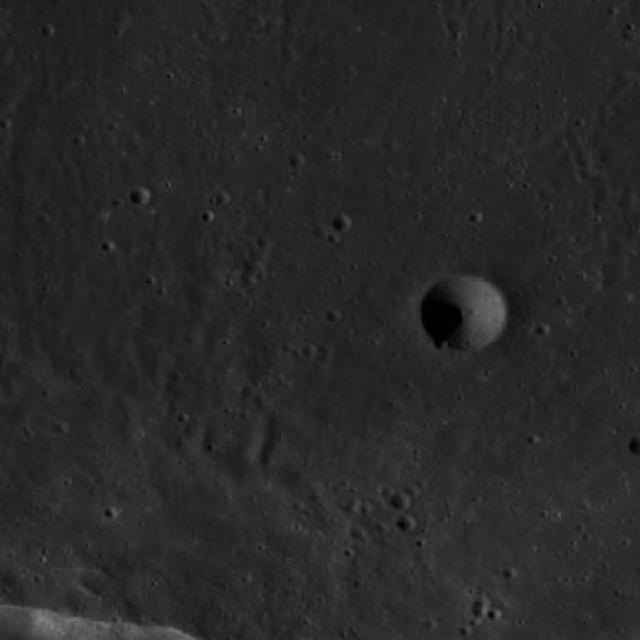crater: (419, 275, 508, 353), (52, 346, 94, 382), (64, 584, 104, 618), (150, 452, 187, 485), (222, 446, 258, 479), (0, 62, 31, 98), (184, 286, 219, 317), (600, 260, 634, 288), (257, 441, 288, 468), (83, 570, 112, 596), (602, 144, 627, 167), (118, 420, 144, 442), (606, 236, 632, 258), (616, 71, 639, 91), (390, 492, 412, 512), (283, 4, 305, 24), (594, 198, 616, 218), (130, 187, 152, 206), (446, 16, 468, 35), (504, 43, 526, 62), (577, 150, 597, 170), (398, 515, 418, 534), (182, 328, 202, 347), (382, 136, 402, 155), (252, 392, 272, 410), (204, 430, 224, 448), (0, 94, 17, 115), (529, 128, 548, 146), (251, 247, 271, 264), (112, 10, 132, 27), (333, 216, 353, 233), (617, 194, 637, 211), (539, 227, 559, 244), (244, 258, 262, 276), (0, 44, 15, 64), (592, 174, 608, 190), (22, 304, 38, 320), (626, 0, 640, 11)
